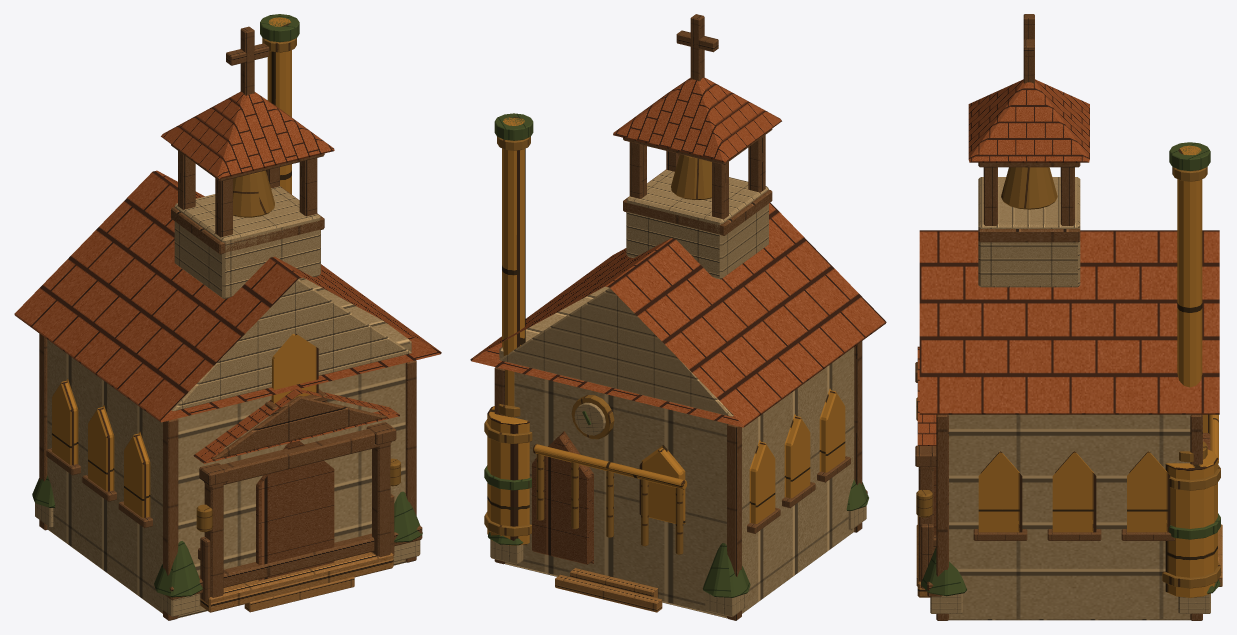
The model's file is chapel.e2.glb.
The picture shows the model from 3 angles, left to right: view 1: azimuth 30°, elevation 25°; view 2: azimuth 150°, elevation 25°; view 3: azimuth 270°, elevation 25°; orthographic projection. The views are drawn at different scales.
Parts seen in each view (by area): view 1: ChapelE2; view 2: ChapelE2; view 3: ChapelE2.
Boxes of the visible parts, x1=… form: ChapelE2: x1=14, y1=14, x2=441, y2=620; ChapelE2: x1=470, y1=14, x2=886, y2=620; ChapelE2: x1=915, y1=14, x2=1222, y2=620.
Bounding box in the file's own units: 3.46 × 6.25 × 3.19.
1 material, 1 textured.
